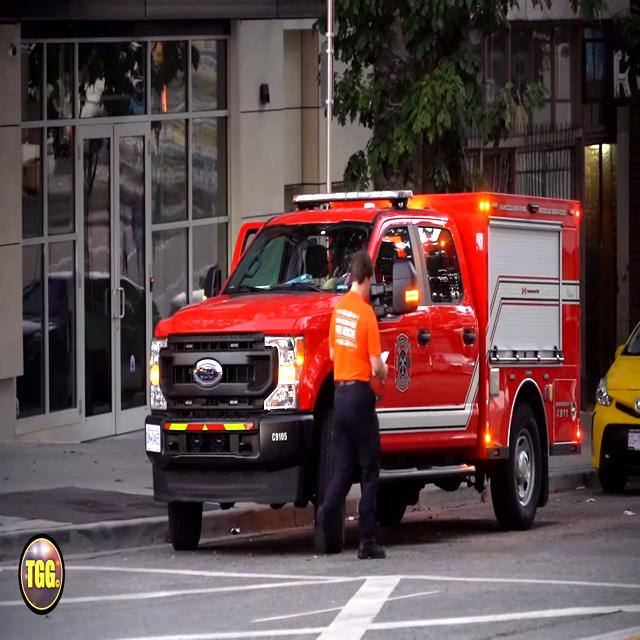emergency-vehicles: (133, 167, 592, 571)
